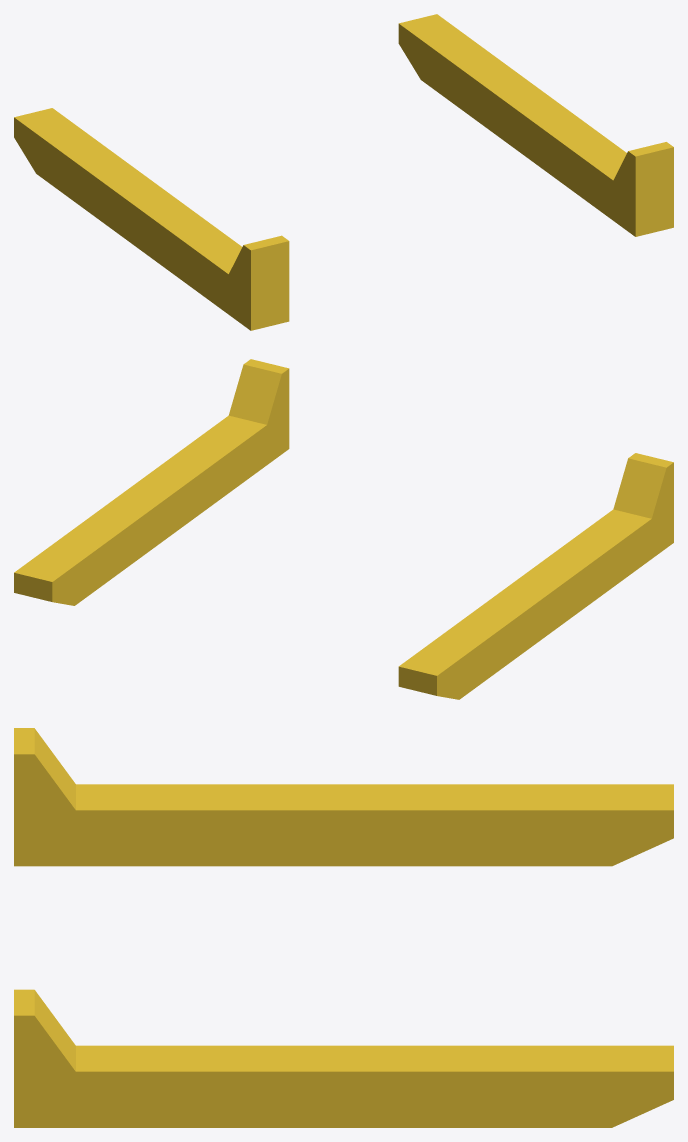
File: Spill-Lift1Plaftorm.fbx
3 renders of one model, top to bottom at view 1: azimuth 30°, elevation 25°; view 2: azimuth 150°, elevation 25°; view 3: azimuth 270°, elevation 25°, orthographic. The views are drawn at different scales.
Visible parts, largest first — view 1: Spill-Lift1Plaftorm.003, Spill-Lift1Plaftorm.002, Spill-Lift1Plaftorm.001, Spill-Lift1Plaftorm; view 2: Spill-Lift1Plaftorm.002, Spill-Lift1Plaftorm.003, Spill-Lift1Plaftorm, Spill-Lift1Plaftorm.001; view 3: Spill-Lift1Plaftorm.002, Spill-Lift1Plaftorm.003, Spill-Lift1Plaftorm.001, Spill-Lift1Plaftorm.
Part boxes in pixels (x1,y1,x2,y2): Spill-Lift1Plaftorm.003: (14, 108, 289, 330); Spill-Lift1Plaftorm.002: (398, 14, 673, 236); Spill-Lift1Plaftorm.001: (228, 235, 289, 290); Spill-Lift1Plaftorm: (613, 142, 673, 196); Spill-Lift1Plaftorm.002: (14, 409, 289, 605); Spill-Lift1Plaftorm.003: (398, 503, 673, 699); Spill-Lift1Plaftorm: (228, 359, 289, 424); Spill-Lift1Plaftorm.001: (613, 453, 673, 518); Spill-Lift1Plaftorm.002: (14, 1045, 673, 1127); Spill-Lift1Plaftorm.003: (14, 784, 673, 866); Spill-Lift1Plaftorm.001: (14, 728, 75, 810); Spill-Lift1Plaftorm: (14, 989, 75, 1071).
Size of the model in its own units: 3.3 by 0.6 by 3.2.
1 material, 1 textured.
